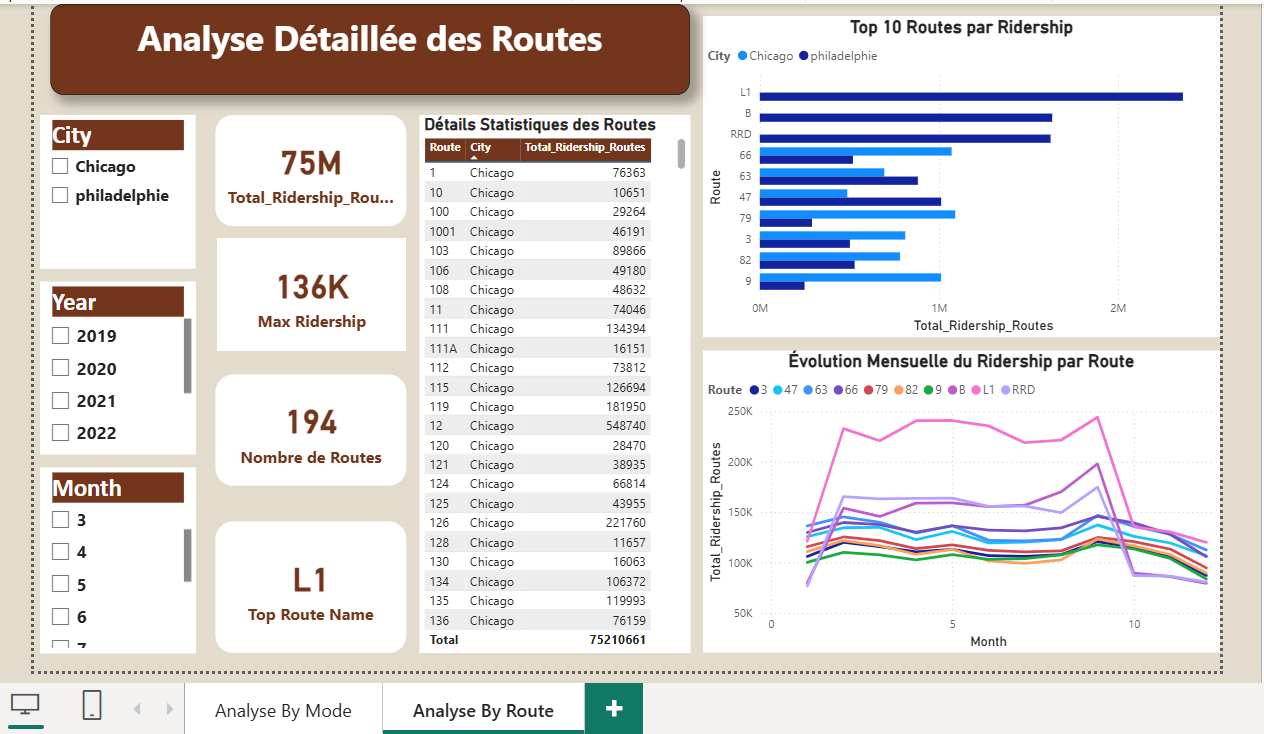

The dashboard page shown, as its layout file describes it:
{"tool":"powerbi","page":{"name":"Analyse By Route","canvas":[1280,720],"ordinal":1},"visuals":[{"type":"clusteredBarChart","title":"Top 10 Routes par Ridership","fields":{"Category":["table_Dim_Route.Route"],"Y":["_Mesures.Total_Ridership_Routes"],"Series":["table_Dim_City.City"]},"box":[721.7,13.3,558.3,346.7],"z":0},{"type":"textbox","box":[18,0,690,98],"z":1000},{"type":"slicer","fields":{"Values":["table_Dim_Year.Year"]},"box":[6,300,168,186],"z":2000},{"type":"slicer","fields":{"Values":["table_Dim_City.City"]},"box":[6,120,168,166],"z":3000},{"type":"lineChart","title":"Évolution Mensuelle du Ridership par Route","fields":{"Category":["table_Dim_Month.Month"],"Y":["_Mesures.Total_Ridership_Routes"],"Series":["table_Dim_Route.Route"]},"box":[722,374,558,326],"z":4000},{"type":"slicer","fields":{"Values":["table_Dim_Month.Month"]},"box":[6,500,168,200],"z":5000},{"type":"card","title":"Total Ridership","fields":{"Values":["_Mesures.Total_Ridership_Routes"]},"box":[196,120,206,120],"z":6000},{"type":"card","title":"Nombre de Lignes","fields":{"Values":["_Mesures.Nombre de Routes"]},"box":[196,400,206,120],"z":7000},{"type":"card","fields":{"Values":["_Mesures.Max Ridership"]},"box":[198,252,204,122],"z":8000},{"type":"tableEx","title":"Détails Statistiques des Routes","fields":{"Values":["table_Dim_Route.Route","table_Dim_City.City","_Mesures.Total_Ridership_Routes"]},"box":[416,120,292,580],"z":9000},{"type":"card","title":"Ligne la plus fréquentée","fields":{"Values":["_Mesures.Top Route Name"]},"box":[196,558,206,142],"z":10000}]}

Visuals, with their boxes on the page's 1280x720 design canvas (x1, y1, x2, y2). These are canvas units, not pixel positions in the 1264x734 screenshot, which may show the page scaled, cropped or inside an application window:
"Top 10 Routes par Ridership" clusteredBarChart: Rect(722, 13, 1280, 360)
textbox: Rect(18, 0, 708, 98)
slicer - table_Dim_Year.Year: Rect(6, 300, 174, 486)
slicer - table_Dim_City.City: Rect(6, 120, 174, 286)
"Évolution Mensuelle du Ridership par Route" lineChart: Rect(722, 374, 1280, 700)
slicer - table_Dim_Month.Month: Rect(6, 500, 174, 700)
"Total Ridership" card: Rect(196, 120, 402, 240)
"Nombre de Lignes" card: Rect(196, 400, 402, 520)
card - _Mesures.Max Ridership: Rect(198, 252, 402, 374)
"Détails Statistiques des Routes" tableEx: Rect(416, 120, 708, 700)
"Ligne la plus fréquentée" card: Rect(196, 558, 402, 700)
